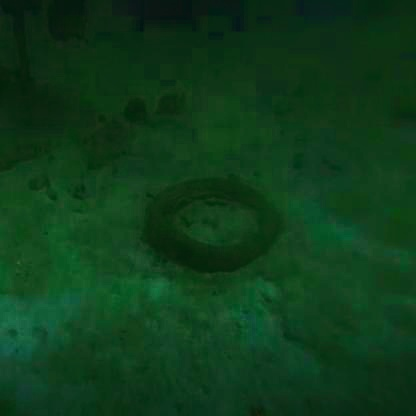tire: (131, 169, 299, 293)
